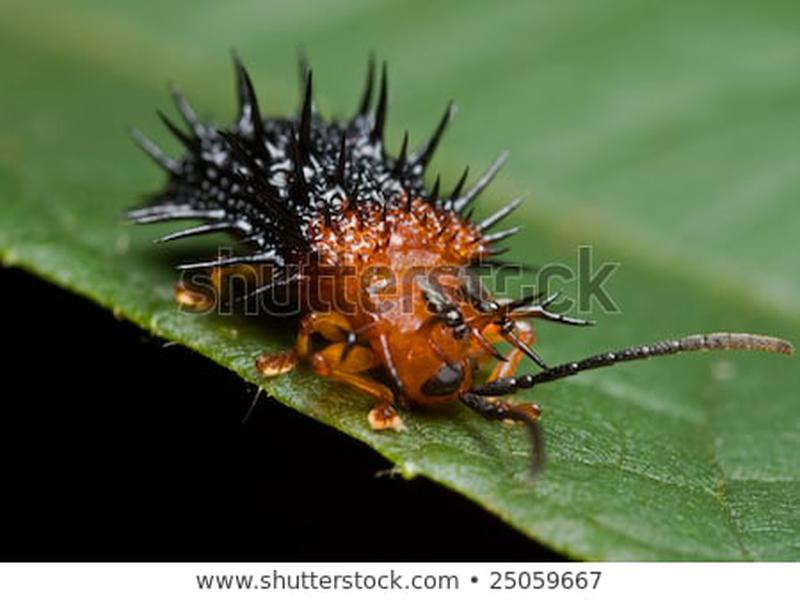Spiny_beetle: (118, 73, 565, 431)
